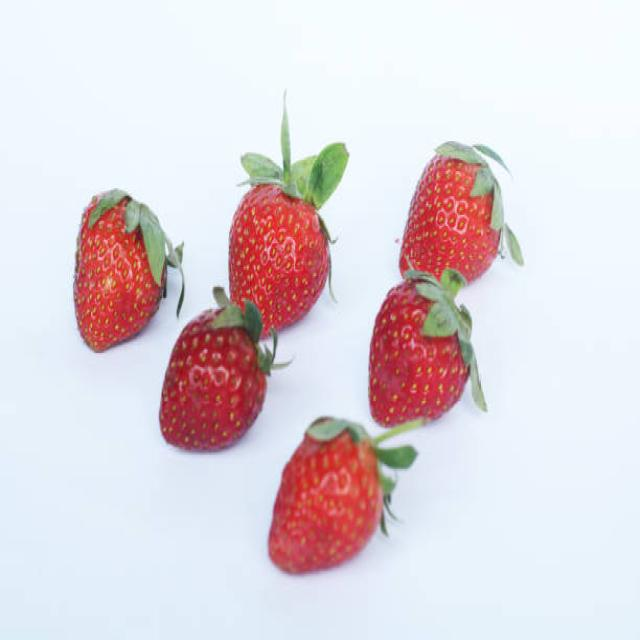Healthy Fruit: (269, 425, 380, 574), (227, 180, 329, 341), (159, 309, 267, 450), (369, 275, 467, 430), (74, 190, 162, 354), (400, 146, 499, 286)
